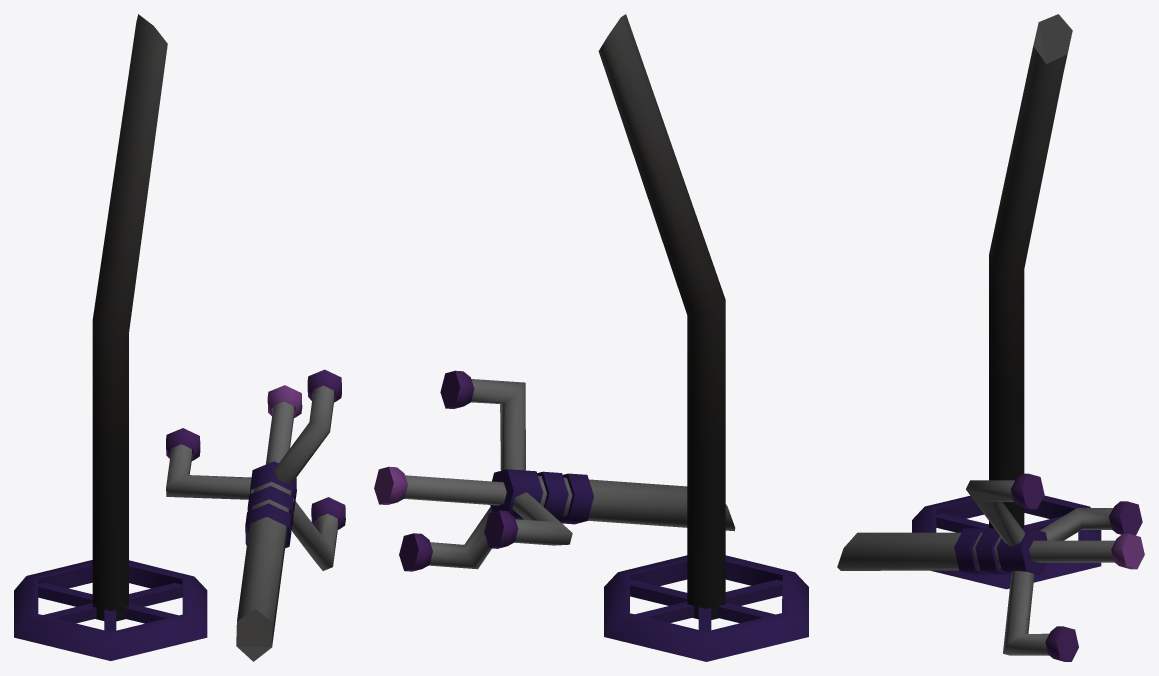
Rendered from Candle_Stand_03.fbx.
The picture shows the model from 3 angles, left to right: view 1: azimuth 30°, elevation 25°; view 2: azimuth 150°, elevation 25°; view 3: azimuth 270°, elevation 25°; orthographic projection. The views are drawn at different scales.
Parts seen in each view (by area): view 1: Candle_Stand_03с; view 2: Candle_Stand_03с; view 3: Candle_Stand_03с.
Part boxes in pixels (x1,y1,x2,y2): Candle_Stand_03с: [14, 14, 345, 661]; Candle_Stand_03с: [374, 14, 808, 661]; Candle_Stand_03с: [837, 14, 1144, 661].
Bounding box in the file's own units: 75.72 × 116 × 57.44.
